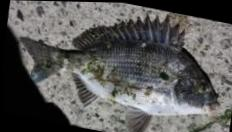fish: (17, 13, 218, 132)
